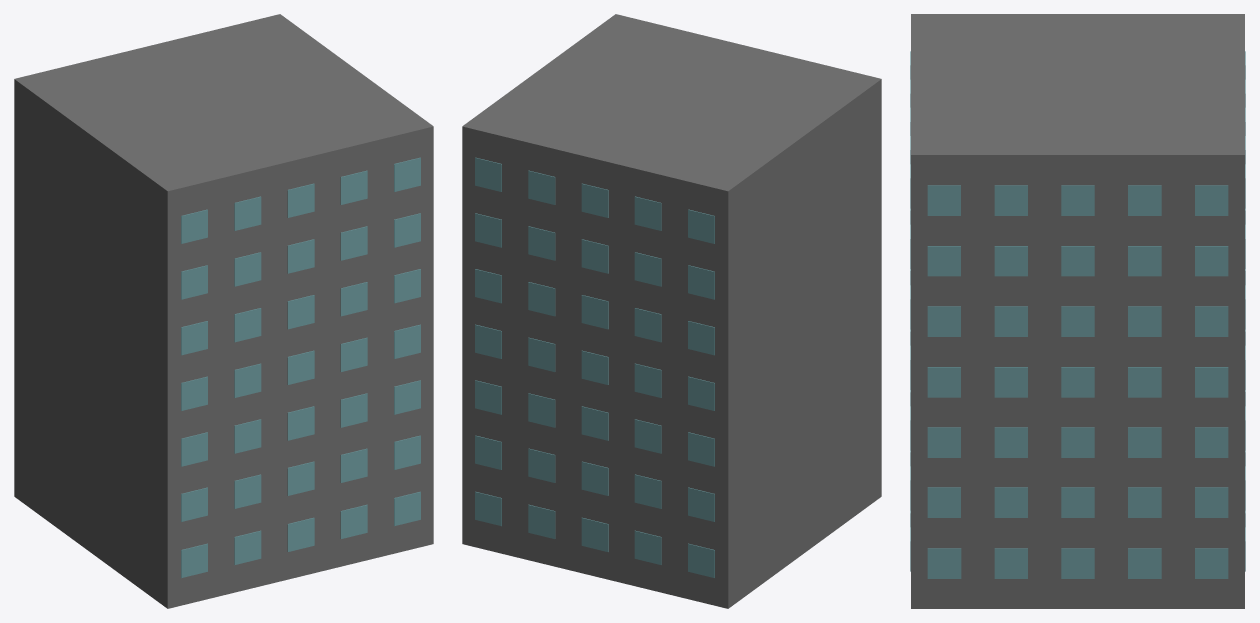
The model's file is Building_003_City_001.fbx.
3 renders of one model, left to right at view 1: azimuth 30°, elevation 25°; view 2: azimuth 150°, elevation 25°; view 3: azimuth 270°, elevation 25°, orthographic. The views are drawn at different scales.
Parts seen in each view (by area): view 1: pCube2; view 2: pCube2; view 3: pCube2.
Part boxes in pixels (x1,y1,x2,y2): pCube2: [14, 14, 433, 608]; pCube2: [462, 14, 881, 608]; pCube2: [910, 14, 1245, 608].
Size of the model in its own units: 10.03 by 15 by 10.05.
